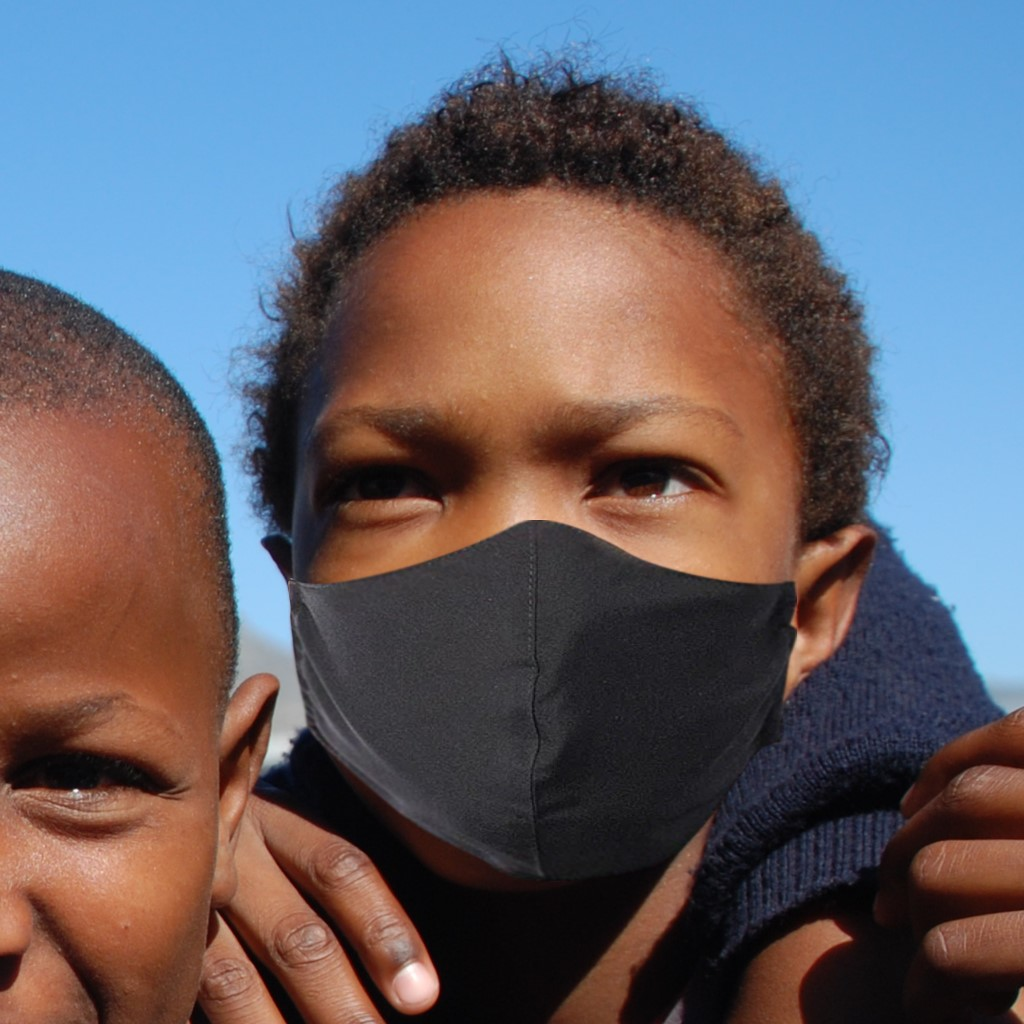con_mascara: (275, 213, 817, 893)
